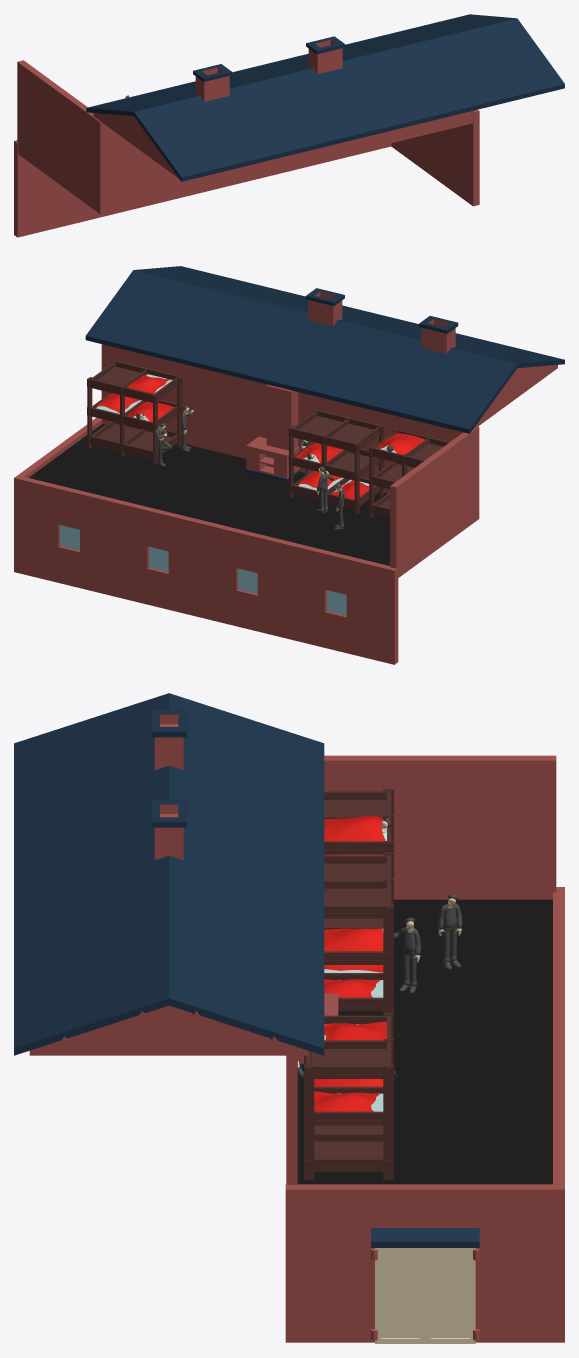
Rendered from mesh_Barracks_revised.fbx.
3 views of the same model, one above another, from view 1: azimuth 30°, elevation 25°; view 2: azimuth 150°, elevation 25°; view 3: azimuth 270°, elevation 25° (orthographic). The views are drawn at different scales.
Parts seen in each view (by area): view 1: mesh_BarrackRevised; view 2: mesh_BarrackRevised; view 3: mesh_BarrackRevised.
Part boxes in pixels (x1,y1,x2,y2): mesh_BarrackRevised: (14, 14, 564, 237); mesh_BarrackRevised: (14, 266, 564, 664); mesh_BarrackRevised: (14, 693, 564, 1343).
Size of the model in its own units: 895 by 513 by 672.
